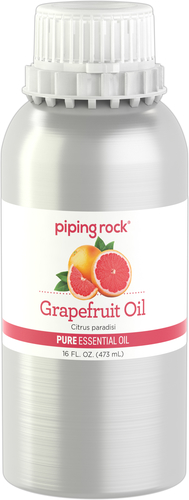Aerosol_cans: (1, 1, 189, 500)
